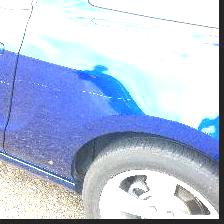door_scratch: (0, 63, 215, 127)
